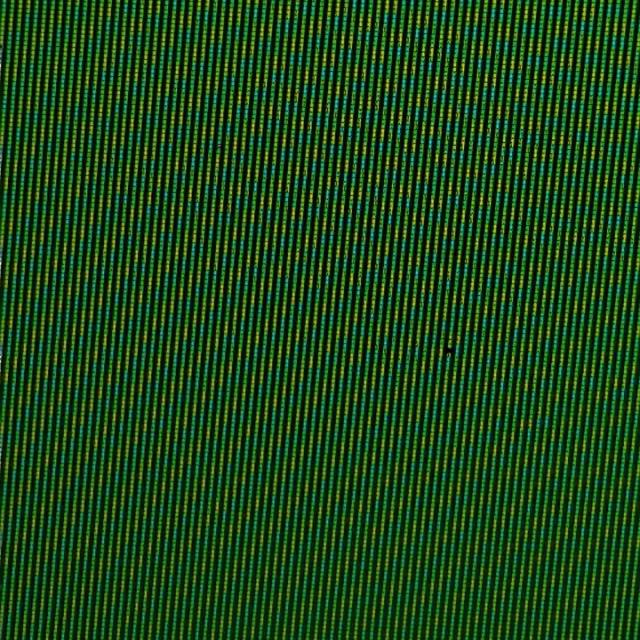Dead pixel: (447, 347, 452, 354), (217, 144, 221, 149)
